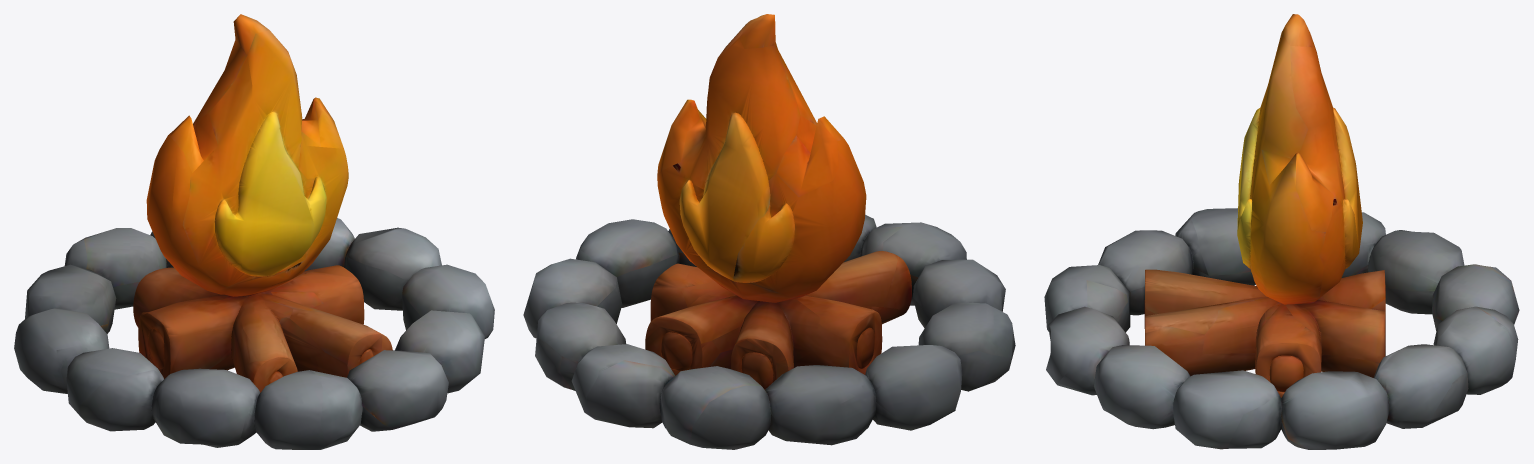
Rendered from campfire_pbr.glb.
The picture shows the model from 3 angles, left to right: view 1: azimuth 30°, elevation 25°; view 2: azimuth 150°, elevation 25°; view 3: azimuth 270°, elevation 25°; orthographic projection. The views are drawn at different scales.
Parts seen in each view (by area): view 1: model.007; view 2: model.007; view 3: model.007.
Part boxes in pixels (x1,y1,x2,y2): model.007: [14, 14, 494, 449]; model.007: [523, 14, 1015, 449]; model.007: [1044, 14, 1519, 449].
Size of the model in its own units: 1.48 by 1.18 by 1.48.
Materials: 1 (1 with a texture image).
